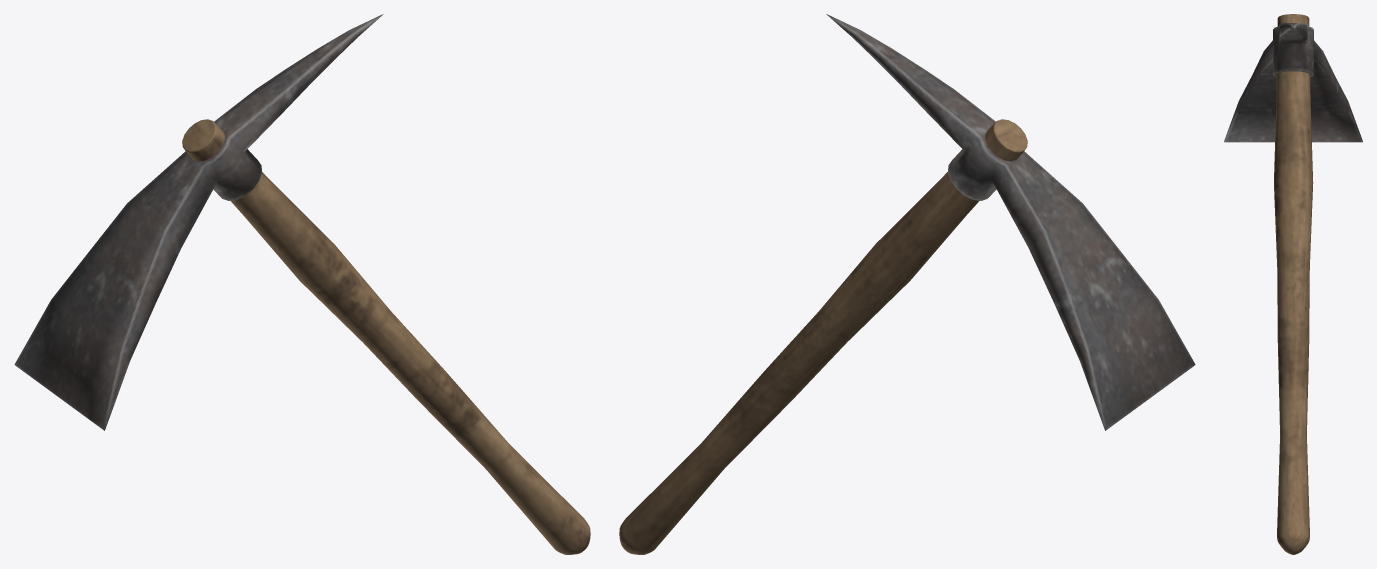
File: axe.glb
3 views of the same model, side by side, from view 1: azimuth 30°, elevation 25°; view 2: azimuth 150°, elevation 25°; view 3: azimuth 270°, elevation 25° (orthographic). The views are drawn at different scales.
Parts seen in each view (by area): view 1: Pick Axe; view 2: Pick Axe; view 3: Pick Axe.
Boxes of the visible parts, x1=… form: Pick Axe: x1=14, y1=14, x2=590, y2=554; Pick Axe: x1=619, y1=14, x2=1195, y2=554; Pick Axe: x1=1224, y1=14, x2=1362, y2=554.
Bounding box in the file's own units: 0.4759 × 0.5036 × 0.1399.
1 material, 1 textured.
